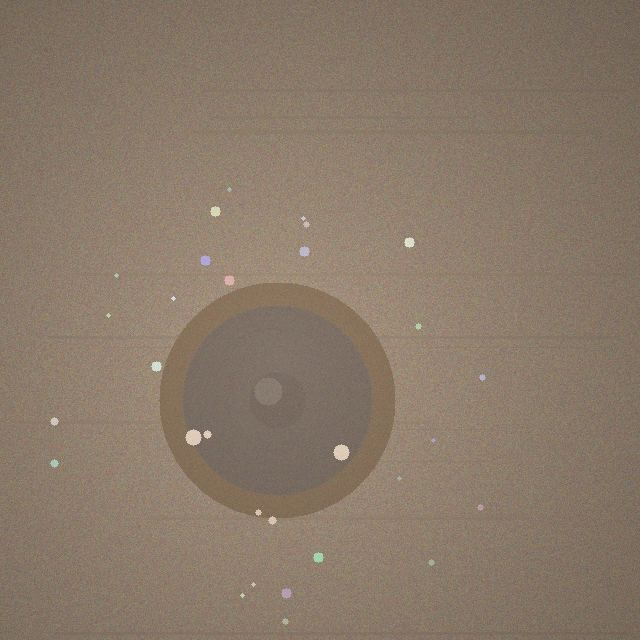overburn: (159, 282, 395, 518)
